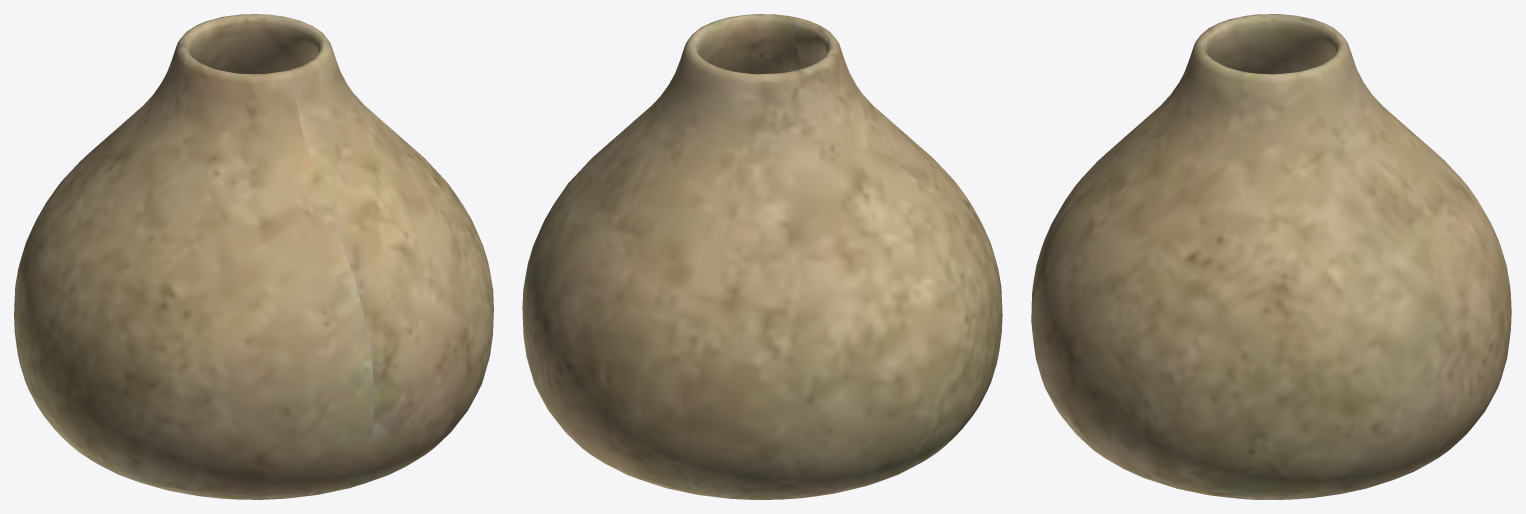
File: obj_cracked_porcelain_vase.glb
The picture shows the model from 3 angles, left to right: view 1: azimuth 30°, elevation 25°; view 2: azimuth 150°, elevation 25°; view 3: azimuth 270°, elevation 25°; orthographic projection.
Parts seen in each view (by area): view 1: Plane.001; view 2: Plane.001; view 3: Plane.001.
Part boxes in pixels (x1=…): Plane.001: x1=14, y1=14, x2=493, y2=499; Plane.001: x1=522, y1=14, x2=1002, y2=499; Plane.001: x1=1031, y1=14, x2=1511, y2=499.
Size of the model in its own units: 0.3268 by 0.3 by 0.3267.
1 material, 1 textured.
